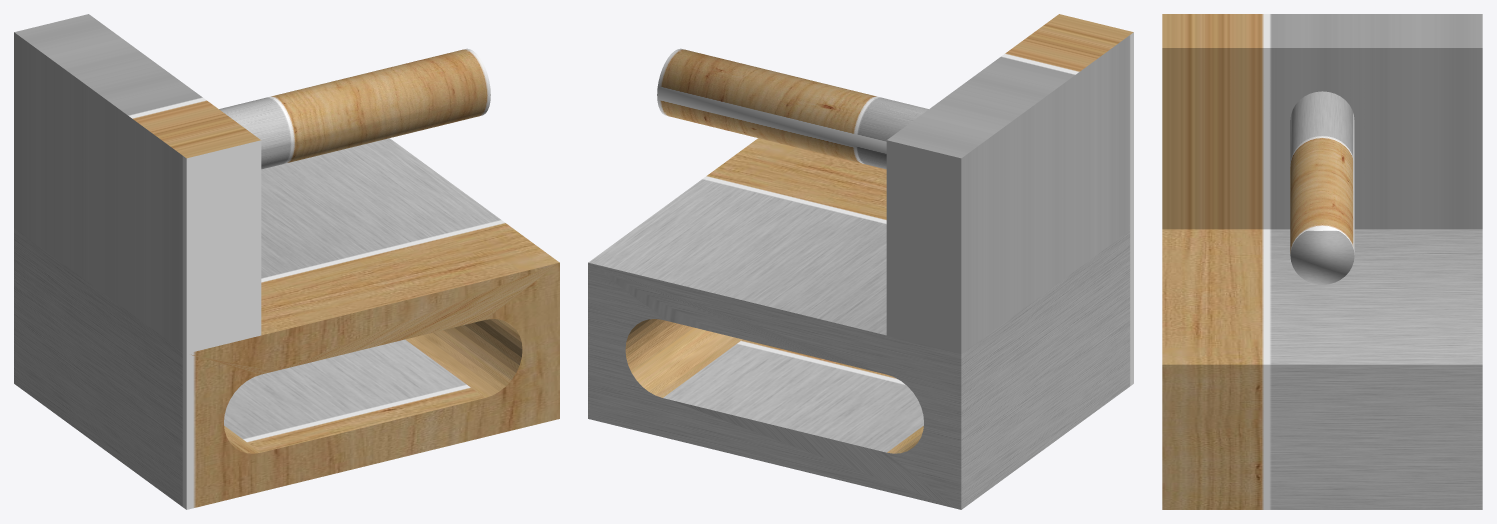
File: cart_v5.glb
The picture shows the model from 3 angles, left to right: view 1: azimuth 30°, elevation 25°; view 2: azimuth 150°, elevation 25°; view 3: azimuth 270°, elevation 25°; orthographic projection. The views are drawn at different scales.
Visible parts, largest first — view 1: Cube.002; view 2: Cube.002; view 3: Cube.002.
Part boxes in pixels (x1,y1,x2,y2): Cube.002: (14, 14, 559, 509); Cube.002: (588, 14, 1133, 509); Cube.002: (1162, 14, 1482, 509).
Bounding box in the file's own units: 0.05 × 0.045 × 0.04.
1 material, 1 textured.
